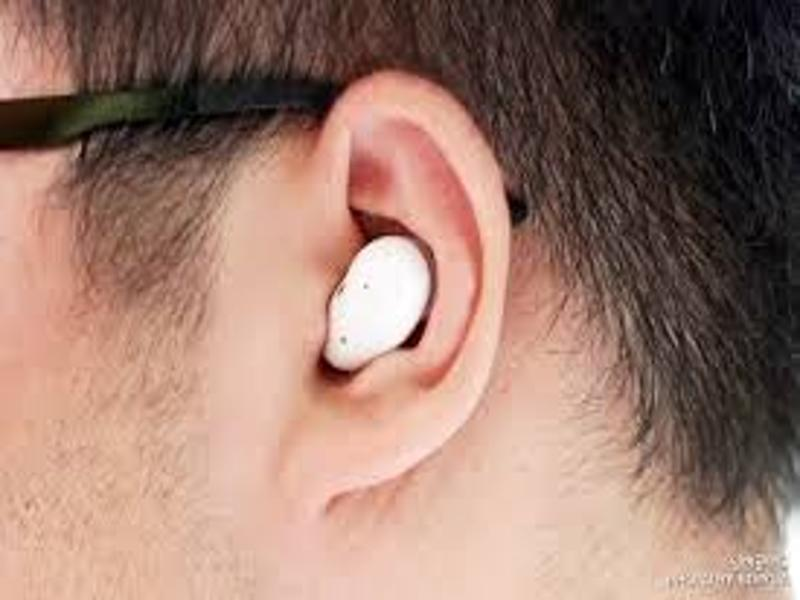headphone: (319, 231, 437, 372)
